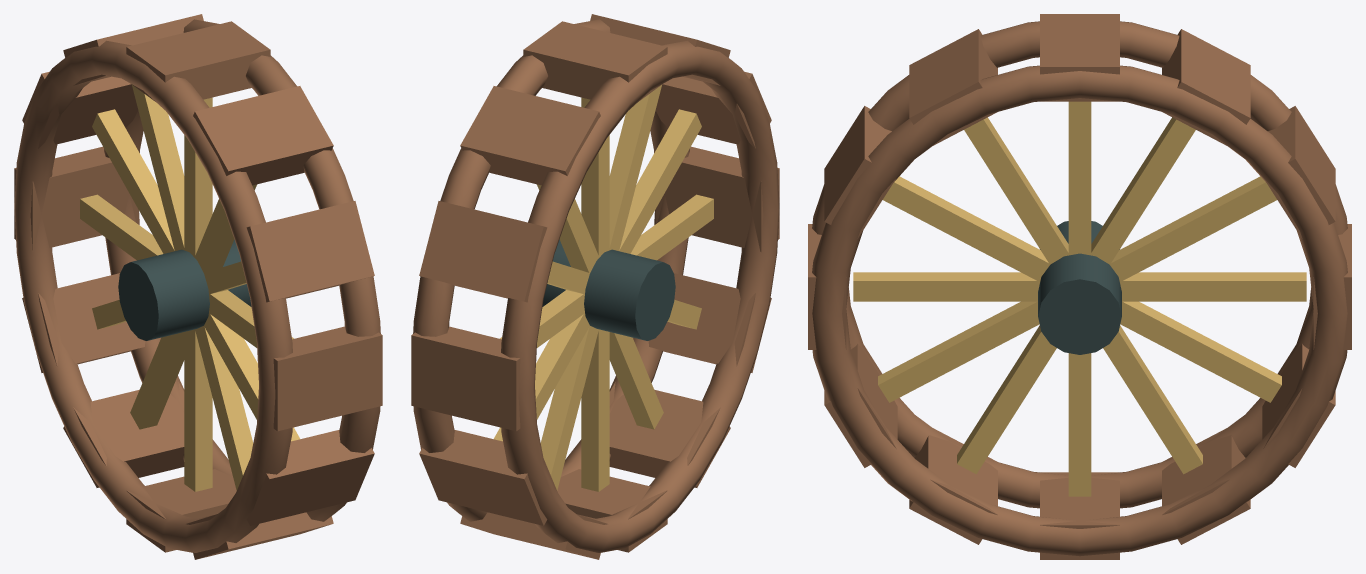
The model's file is watermill-wheel.glb.
The picture shows the model from 3 angles, left to right: view 1: azimuth 30°, elevation 25°; view 2: azimuth 150°, elevation 25°; view 3: azimuth 270°, elevation 25°; orthographic projection. The views are drawn at different scales.
Parts seen in each view (by area): view 1: wood, gold, dark; view 2: wood, gold, dark; view 3: wood, gold, dark.
Boxes of the visible parts, <box> form: wood: <box>14,14,382,559</box>; gold: <box>80,85,299,491</box>; dark: <box>118,239,251,340</box>; wood: <box>411,14,779,559</box>; gold: <box>494,85,713,491</box>; dark: <box>542,239,675,340</box>; wood: <box>808,14,1351,559</box>; gold: <box>853,101,1306,496</box>; dark: <box>1038,221,1121,354</box>.
Size of the model in its own units: 0.82 by 3.12 by 3.12.
